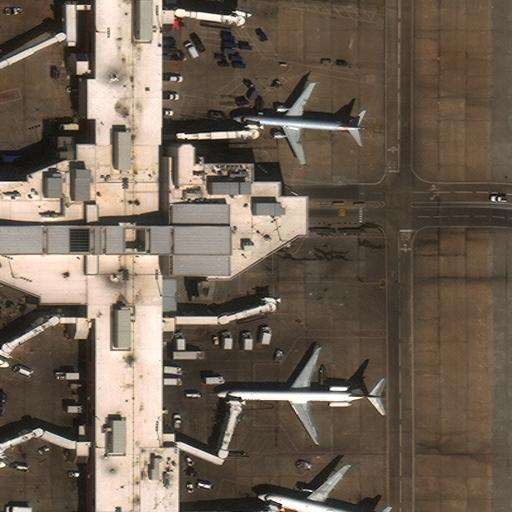Medium Civil Transport: (216, 347, 382, 444), (232, 82, 364, 165), (257, 465, 378, 512)
